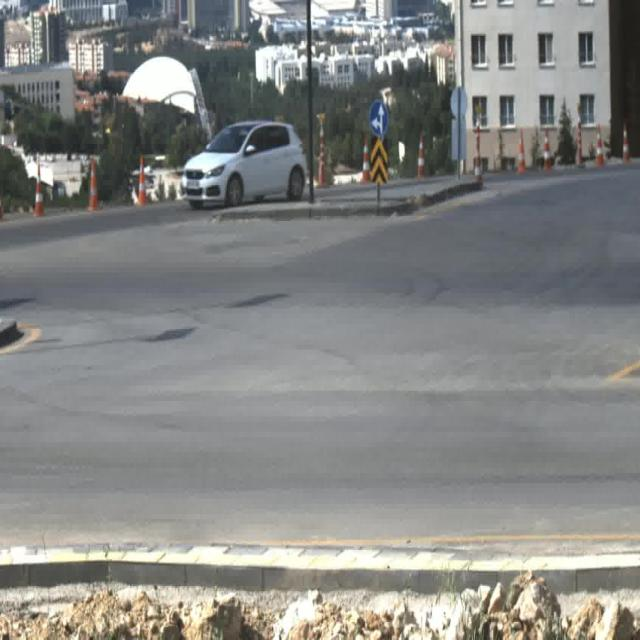Car: (181, 120, 305, 210)
